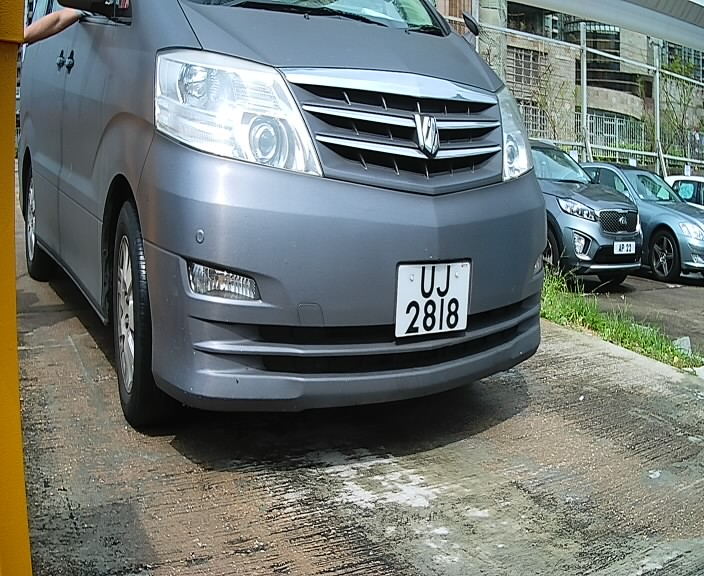Car: (28, 2, 548, 443)
License Plate: (391, 248, 481, 354)
